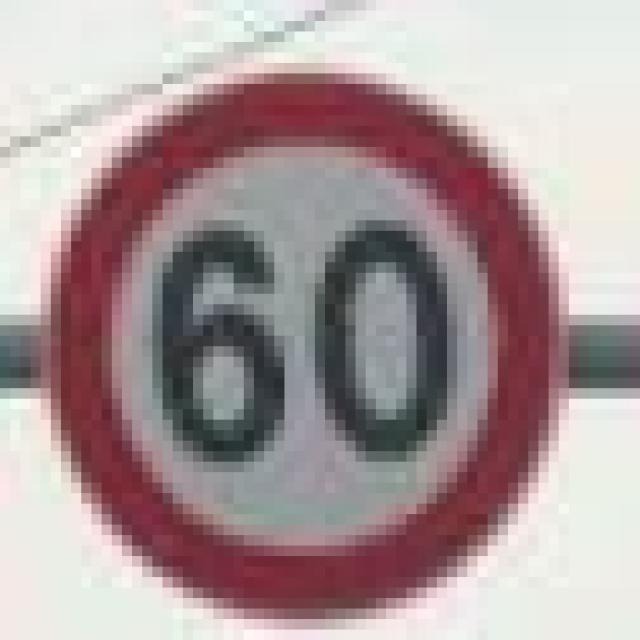speed_limit_60: (30, 63, 559, 619)
